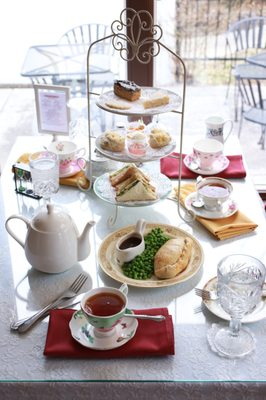burger: (12, 273, 88, 334)
curry: (122, 227, 172, 280)
sushi: (97, 219, 204, 288), (80, 286, 128, 334)
